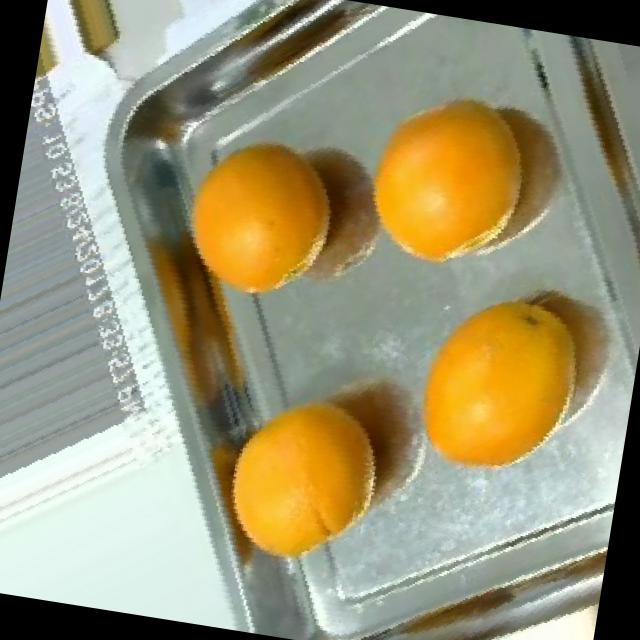Fruit: (382, 276, 626, 513)
